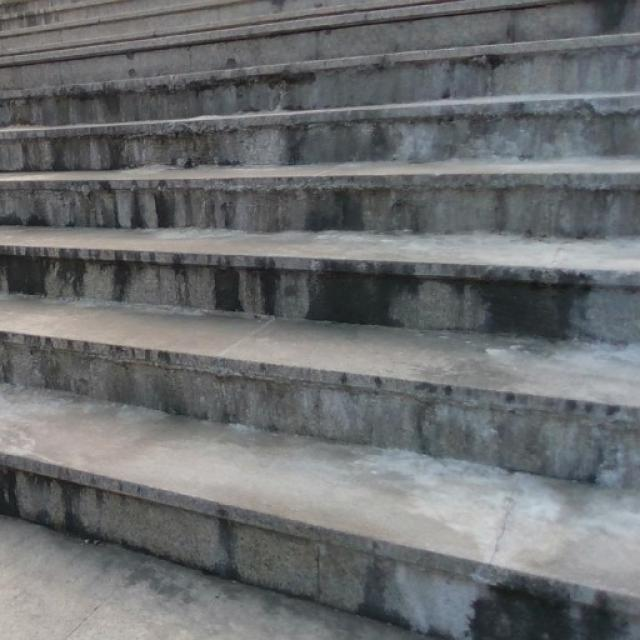stair: (4, 1, 640, 615)
